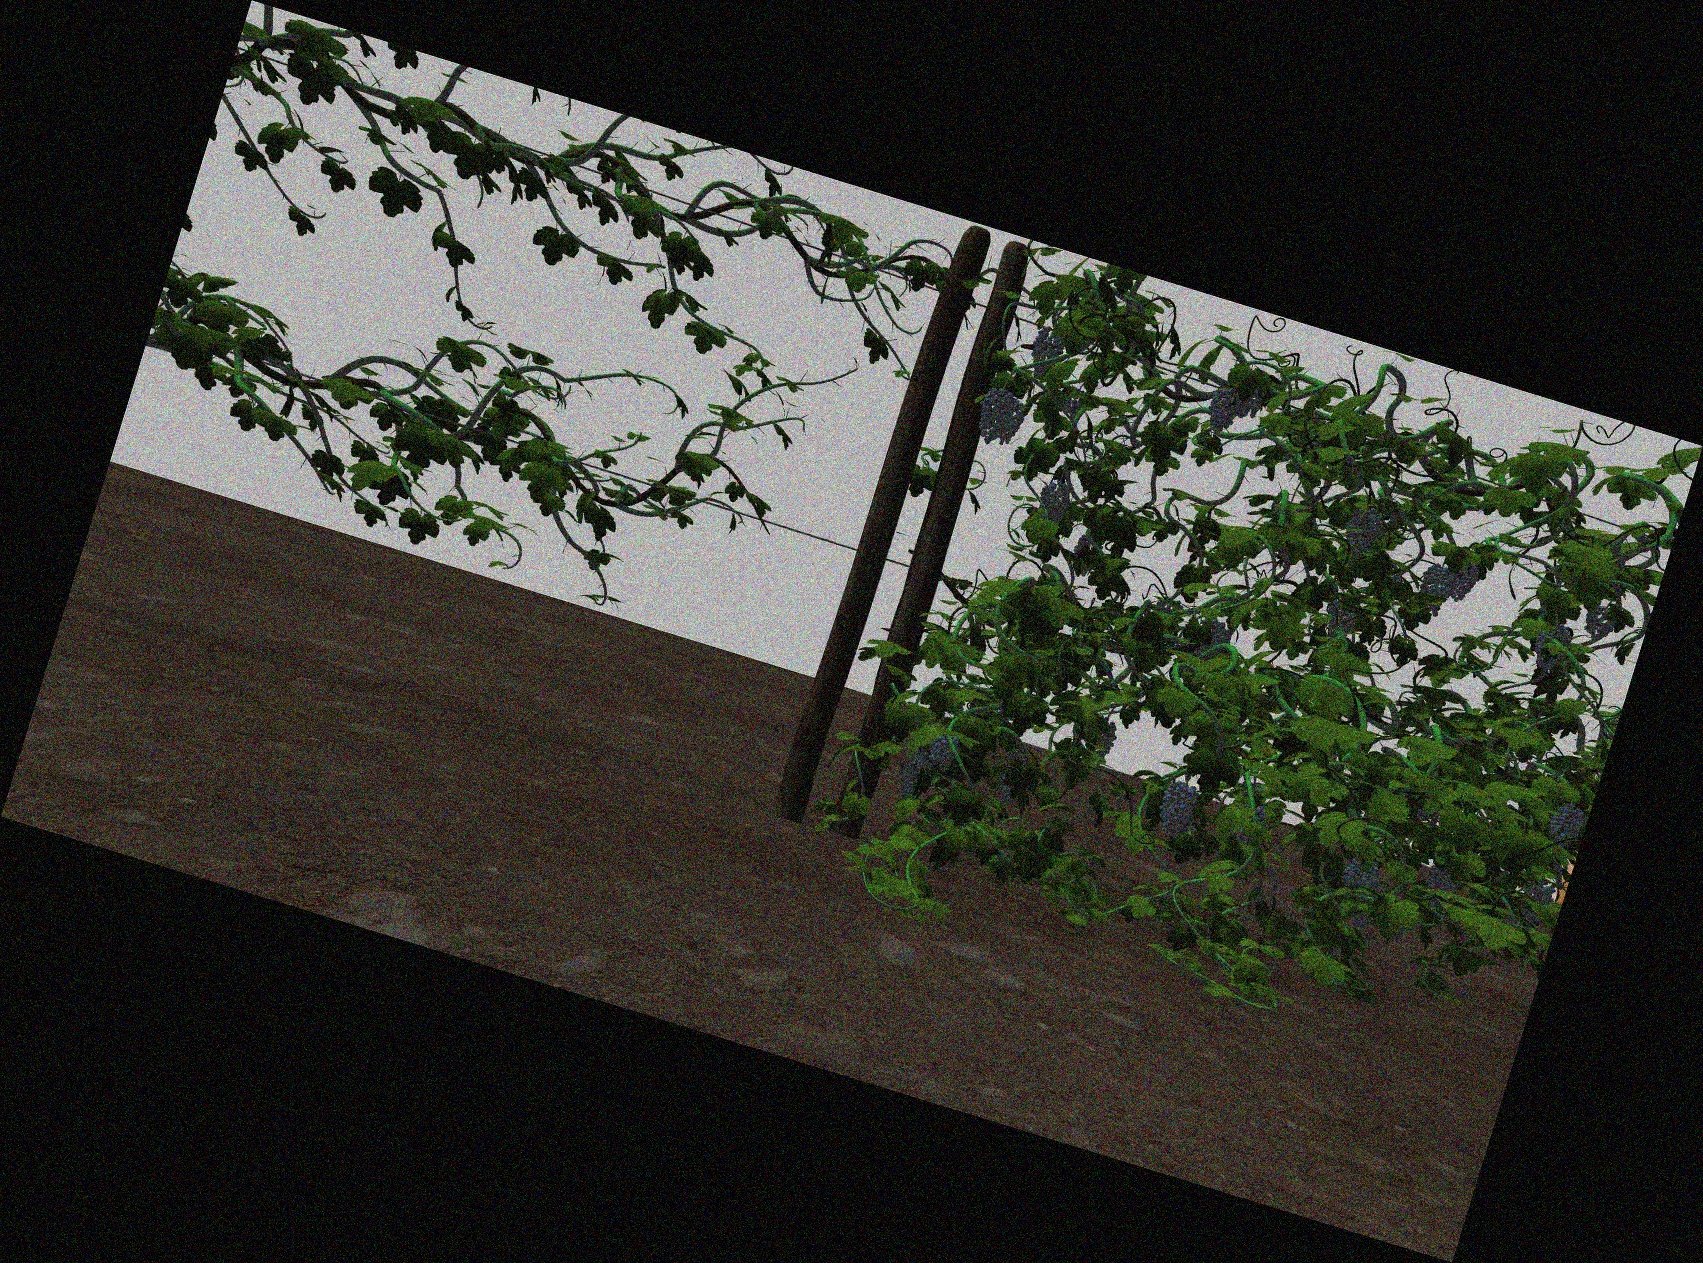grape: (1159, 781, 1196, 837), (1344, 507, 1381, 560), (1418, 566, 1454, 614), (978, 386, 1008, 442), (1535, 624, 1569, 669), (1208, 387, 1241, 434), (1032, 328, 1061, 377), (1549, 805, 1581, 845), (1344, 858, 1378, 894), (1451, 563, 1482, 602), (1039, 484, 1070, 521), (928, 734, 958, 771), (1584, 605, 1614, 639), (1001, 401, 1023, 448), (899, 756, 924, 796)
